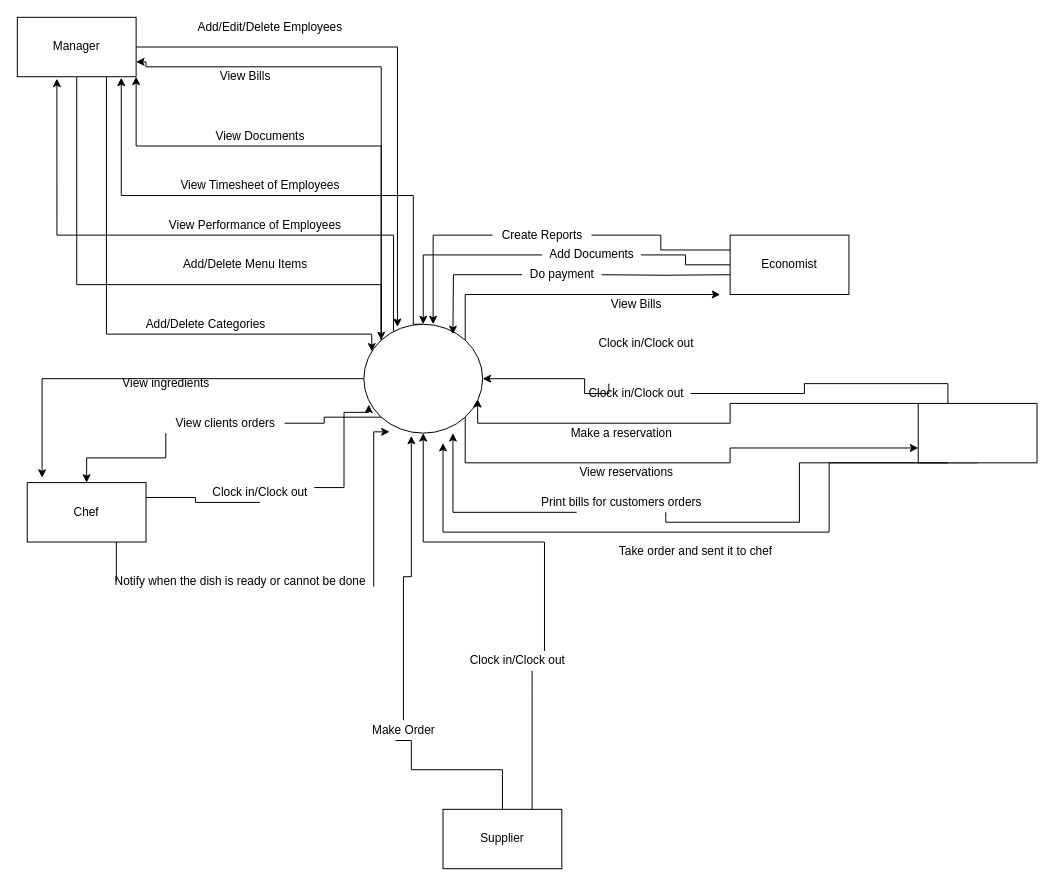
Image size: 1054x886. Some labels were removed from this diagram. Here are the shapes that lost their labels. From the top down, the centre of each, then its label:
At [423,378]: "Restaurant Management System".
At [977,432]: "Waiter".
